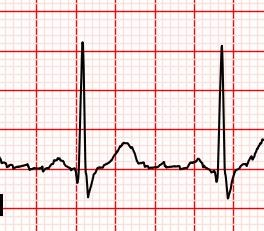Pathological Q Wave: (210, 164, 222, 184), (73, 165, 82, 186)
ST Depression: (70, 164, 98, 200), (213, 166, 239, 203)
